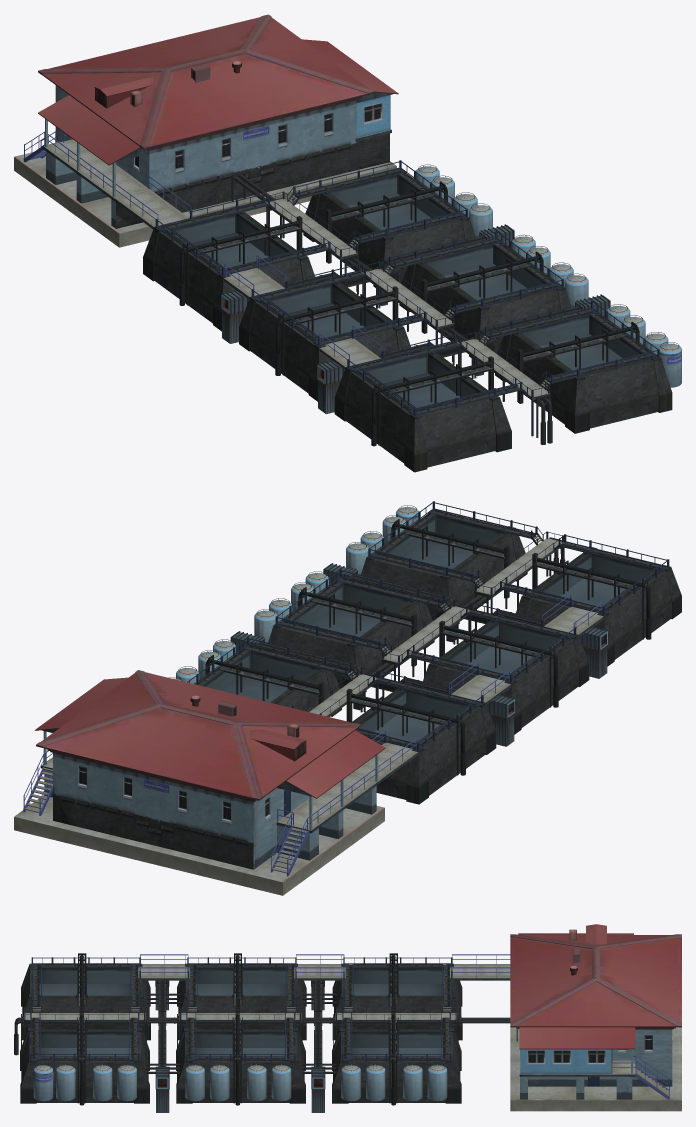
Rendered from water.glb.
3 renders of one model, top to bottom at view 1: azimuth 30°, elevation 25°; view 2: azimuth 150°, elevation 25°; view 3: azimuth 270°, elevation 25°, orthographic. The views are drawn at different scales.
Parts seen in each view (by area): view 1: Cube_0, Tank3_3, Tank2_4, Tank_1, Cylinder_2; view 2: Cube_0, Tank3_3, Tank2_4, Tank_1, Cylinder_2; view 3: Cube_0, Tank3_3, Tank2_4, Tank_1, Cylinder_2.
Part boxes in pixels (x1,y1,x2,y2): Cube_0: (14, 14, 398, 247); Tank3_3: (317, 294, 672, 472); Tank2_4: (221, 224, 571, 401); Tank_1: (114, 160, 475, 331); Cylinder_2: (416, 164, 681, 387); Cube_0: (14, 670, 385, 895); Tank3_3: (323, 501, 681, 678); Tank2_4: (230, 569, 589, 746); Tank_1: (187, 637, 496, 804); Cylinder_2: (168, 505, 418, 683); Cube_0: (510, 924, 681, 1111); Tank3_3: (14, 953, 189, 1112); Tank2_4: (174, 953, 345, 1112); Tank_1: (330, 953, 517, 1105); Cylinder_2: (33, 1064, 447, 1101).
Size of the model in its own units: 44.75 by 18.08 by 107.
Materials: 1 (1 with a texture image).
